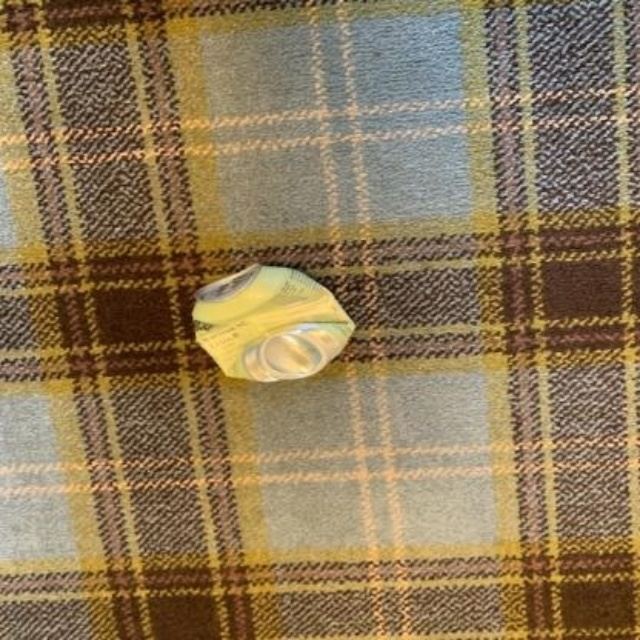trash: (192, 265, 352, 380)
